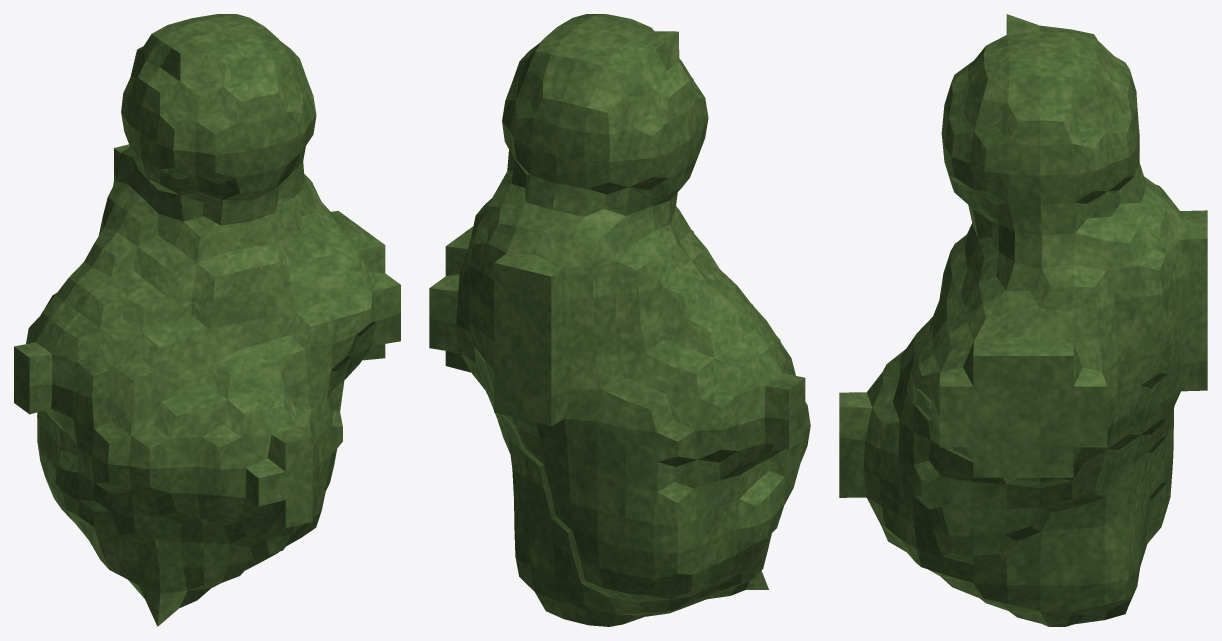
The model's file is shrub_d.glb.
3 renders of one model, left to right at view 1: azimuth 30°, elevation 25°; view 2: azimuth 150°, elevation 25°; view 3: azimuth 270°, elevation 25°, orthographic. The views are drawn at different scales.
Visible parts, largest first — view 1: wilds_shrub_d; view 2: wilds_shrub_d; view 3: wilds_shrub_d.
Boxes of the visible parts, x1=… form: wilds_shrub_d: x1=14, y1=14, x2=400, y2=626; wilds_shrub_d: x1=429, y1=14, x2=810, y2=626; wilds_shrub_d: x1=839, y1=14, x2=1207, y2=626.
Size of the model in its own units: 0.75 by 1.19 by 0.6875.
Materials: 1 (1 with a texture image).
